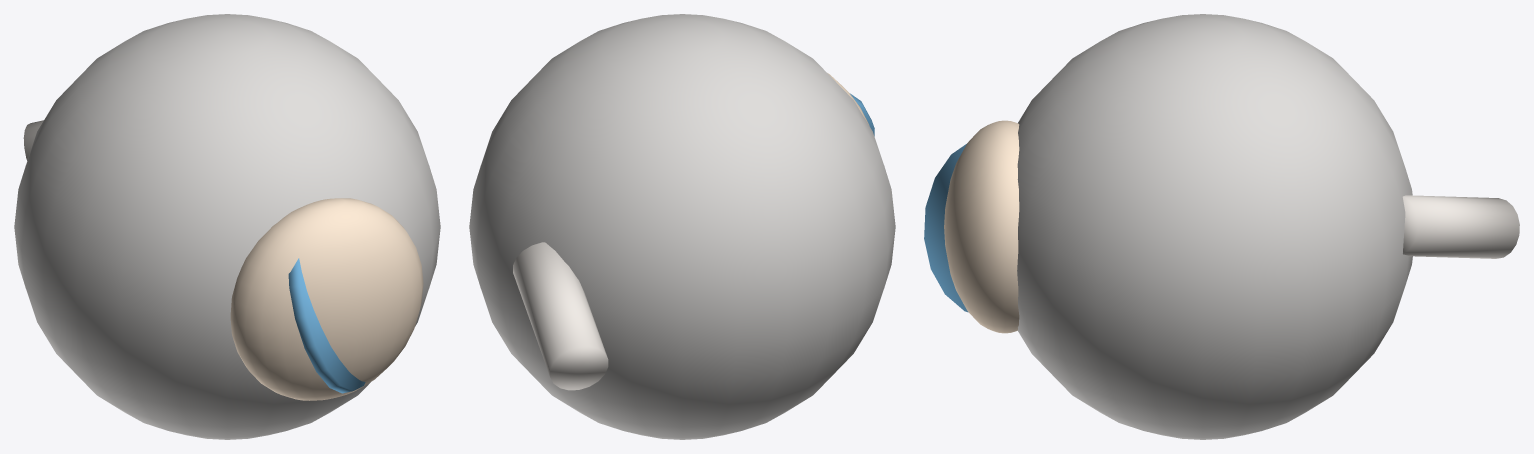
The model's file is human_eye.glb.
The picture shows the model from 3 angles, left to right: view 1: azimuth 30°, elevation 25°; view 2: azimuth 150°, elevation 25°; view 3: azimuth 270°, elevation 25°; orthographic projection.
Visible parts, largest first — view 1: sclera, cornea, iris; view 2: sclera, nerve; view 3: sclera, cornea, nerve, iris.
Part boxes in pixels (x1,y1,x2,y2): sclera: (14,14,440,439); cornea: (230,198,423,400); iris: (288,258,365,393); sclera: (469,14,895,439); nerve: (513,242,608,390); sclera: (1017,14,1412,439); cornea: (944,120,1019,333); nerve: (1402,195,1519,258); iris: (924,144,968,312).
Size of the model in its own units: 1.4 by 1.4 by 1.96.
